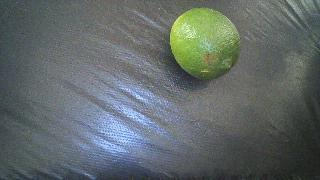DESECHO: (170, 8, 241, 79)
